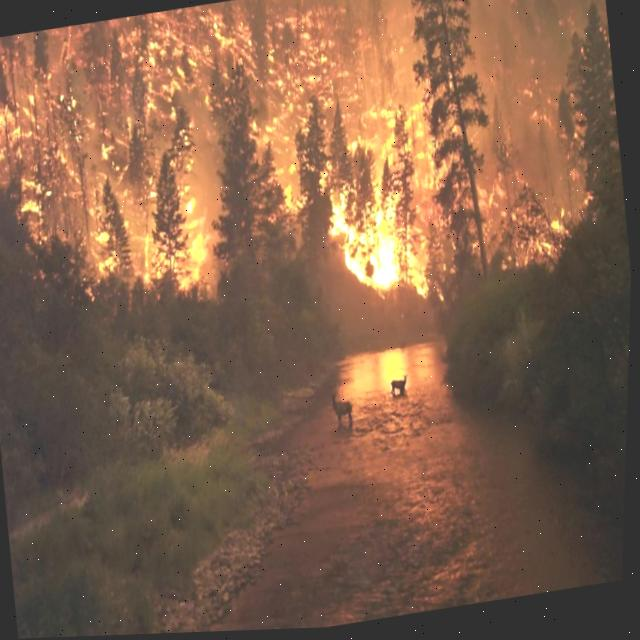fire: (7, 6, 231, 285), (221, 0, 425, 170), (333, 180, 435, 309)
